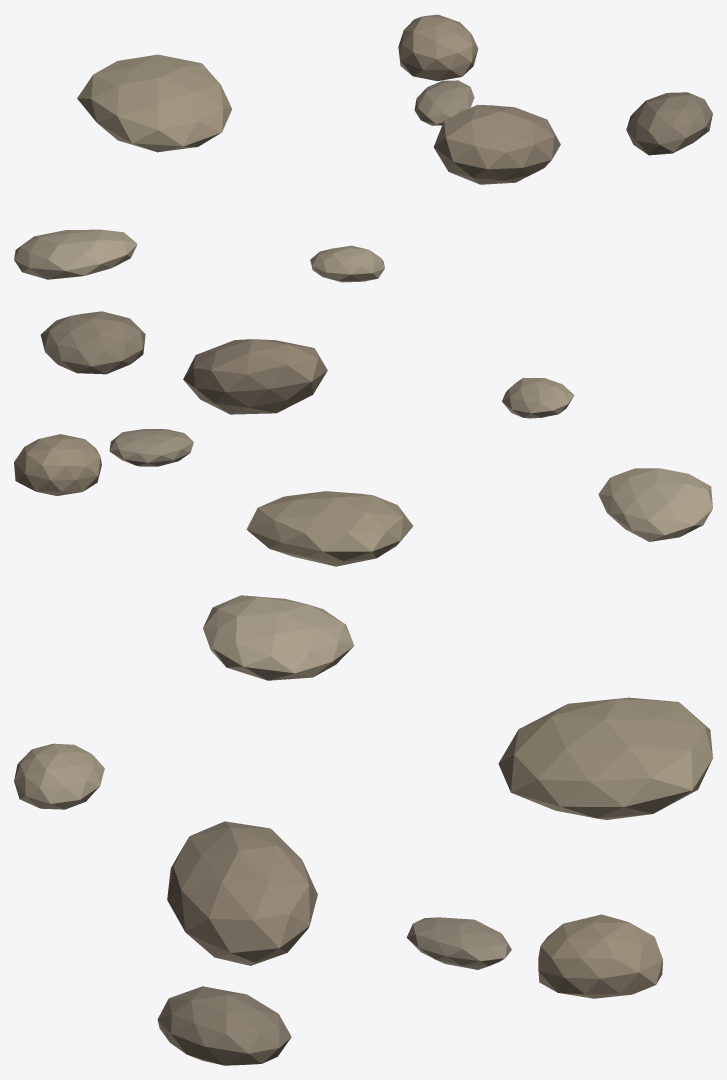
The model's file is loose-rocks.glb.
3 views of the same model, one above another, from view 1: azimuth 30°, elevation 25°; view 2: azimuth 150°, elevation 25°; view 3: azimuth 270°, elevation 25° (orthographic). The views are drawn at different scales.
Bounding box in the file's own units: 0.4617 × 0.0458 × 0.2964.
